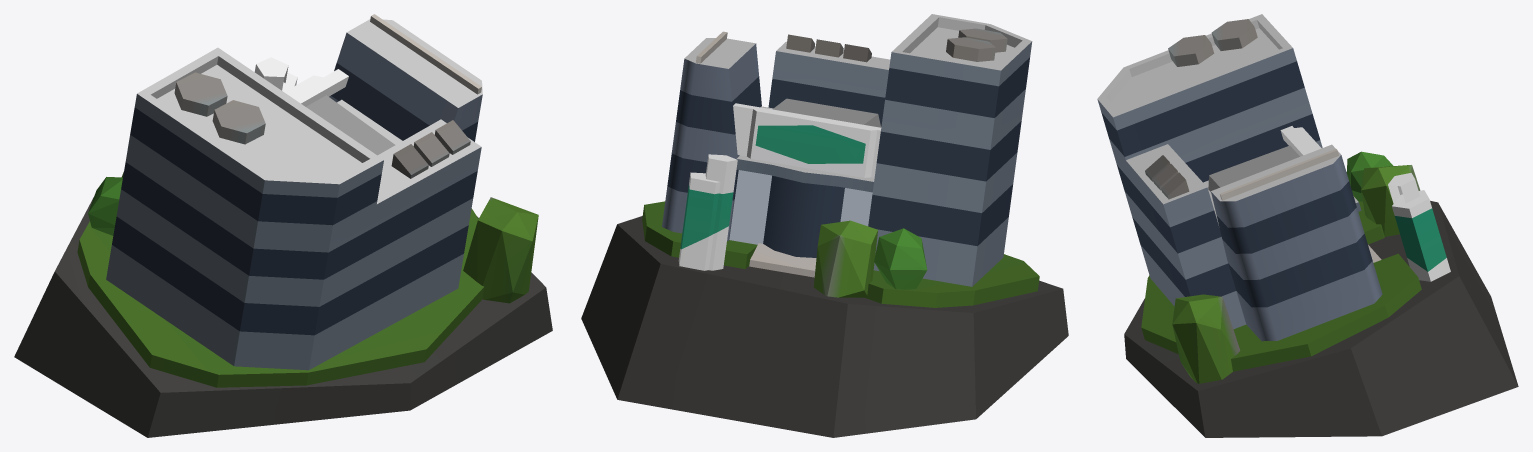
The model's file is city_lv04_A.fbx.
3 views of the same model, side by side, from view 1: azimuth 30°, elevation 25°; view 2: azimuth 150°, elevation 25°; view 3: azimuth 270°, elevation 25° (orthographic). The views are drawn at different scales.
Visible parts, largest first — view 1: city_lv04_A; view 2: city_lv04_A; view 3: city_lv04_A.
Part boxes in pixels (x1,y1,x2,y2): city_lv04_A: [14, 14, 552, 437]; city_lv04_A: [581, 14, 1068, 437]; city_lv04_A: [1097, 14, 1518, 437].
Size of the model in its own units: 3427 by 2413 by 3375.
